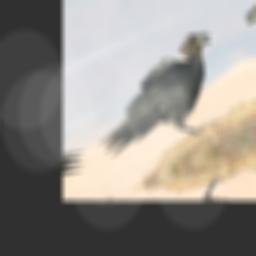Crow: (76, 23, 244, 178)
